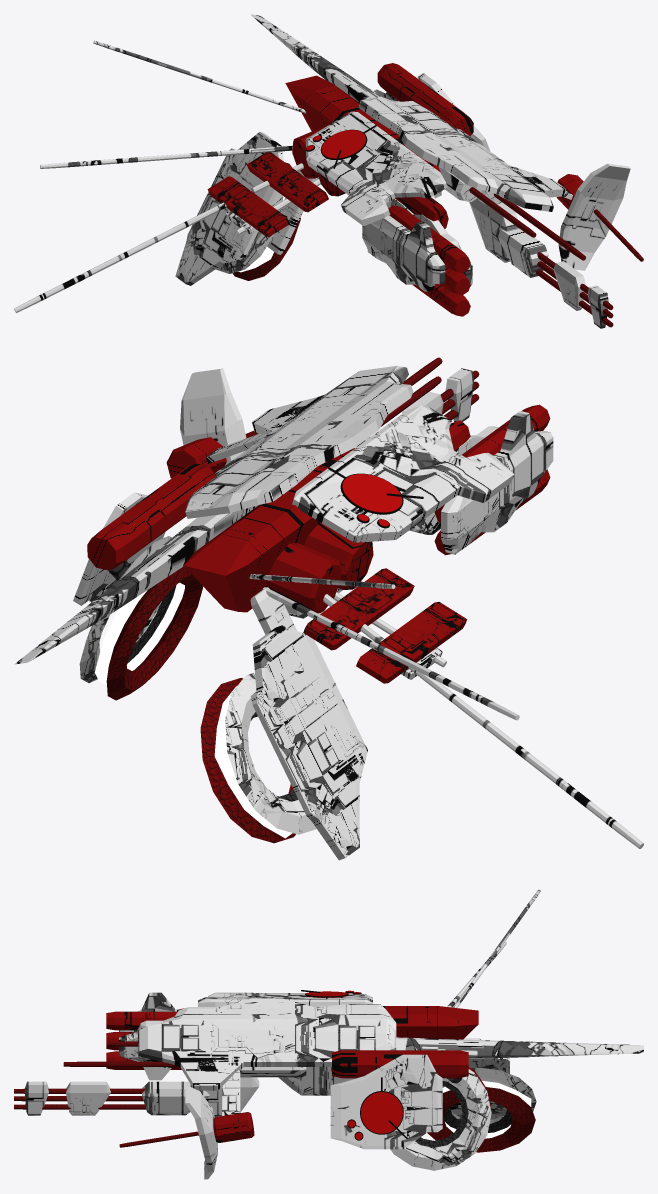
Rendered from sting.gltf.
3 renders of one model, top to bottom at view 1: azimuth 30°, elevation 25°; view 2: azimuth 150°, elevation 25°; view 3: azimuth 270°, elevation 25°, orthographic. The views are drawn at different scales.
Parts seen in each view (by area): view 1: body; view 2: body, engine; view 3: body, engine.
Boxes of the visible parts, x1=… form: body: x1=14, y1=14, x2=643, y2=328; body: x1=14, y1=357, x2=643, y2=860; engine: x1=94, y1=582, x2=292, y2=838; body: x1=14, y1=889, x2=643, y2=1179; engine: x1=442, y1=1081, x2=531, y2=1138.
Size of the model in its own units: 7.32 by 3.49 by 9.24.
Materials: 7 (4 with a texture image).
